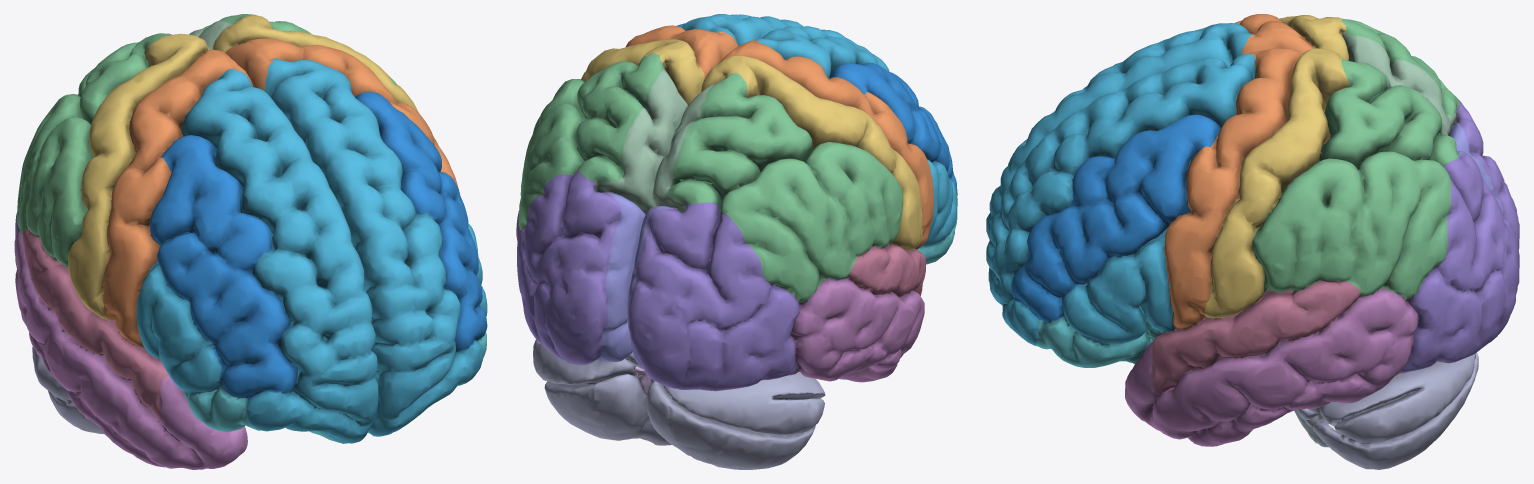
File: cortex-brain-v6-8542869de3.glb
3 renders of one model, left to right at view 1: azimuth 30°, elevation 25°; view 2: azimuth 150°, elevation 25°; view 3: azimuth 270°, elevation 25°, orthographic. The views are drawn at different scales.
Visible parts, largest first — view 1: Cortex_frontal_R, Cortex_frontal_L, Cortex_dlpfc_R, Cortex_temporal_R, Cortex_motor_R, Cortex_parietal_R, Cortex_somatosensory_R, Cortex_dlpfc_L, Cortex_auditory_R, Cortex_motor_L, Cortex_somatosensory_L, Cortex_ofc_R (+3 smaller); view 2: Cortex_parietal_R, Cortex_occipital_R, Cerebellar_hemispheres, Cortex_occipital_L, Cortex_parietal_L, Cortex_temporal_R, Cortex_somatosensory_R, Cortex_motor_R, Cortex_precuneus_L, Cortex_frontal_R, Cortex_dlpfc_R, Cortex_visual_L (+7 smaller); view 3: Cortex_parietal_L, Cortex_frontal_L, Cortex_temporal_L, Cortex_dlpfc_L, Cortex_occipital_L, Cortex_motor_L, Cortex_somatosensory_L, Cerebellar_hemispheres, Cortex_auditory_L, Cortex_frontal_R, Cortex_ofc_L, Cortex_precuneus_R (+5 smaller).
Boxes of the visible parts, x1,y1,x2,y2 form: Cortex_frontal_R: [136, 69, 378, 443]; Cortex_frontal_L: [264, 58, 487, 436]; Cortex_dlpfc_R: [150, 135, 297, 399]; Cortex_temporal_R: [14, 230, 247, 469]; Cortex_motor_R: [103, 49, 252, 347]; Cortex_parietal_R: [17, 33, 168, 267]; Cortex_somatosensory_R: [68, 33, 209, 320]; Cortex_dlpfc_L: [355, 91, 487, 350]; Cortex_auditory_R: [22, 229, 169, 423]; Cortex_motor_L: [225, 38, 459, 190]; Cortex_somatosensory_L: [212, 15, 437, 143]; Cortex_ofc_R: [183, 384, 339, 442]; Cortex_parietal_R: [668, 73, 903, 302]; Cortex_occipital_R: [628, 202, 799, 391]; Cerebellar_hemispheres: [533, 339, 825, 469]; Cortex_occipital_L: [517, 170, 621, 365]; Cortex_parietal_L: [518, 53, 662, 230]; Cortex_temporal_R: [789, 278, 924, 382]; Cortex_somatosensory_R: [701, 55, 922, 250]; Cortex_motor_R: [721, 40, 933, 249]; Cortex_precuneus_L: [594, 66, 687, 213]; Cortex_frontal_R: [755, 26, 957, 246]; Cortex_dlpfc_R: [829, 62, 957, 195]; Cortex_visual_L: [596, 192, 645, 362]; Cortex_parietal_L: [1252, 59, 1459, 300]; Cortex_frontal_L: [986, 53, 1255, 345]; Cortex_temporal_L: [1125, 288, 1418, 446]; Cortex_dlpfc_L: [1011, 114, 1220, 322]; Cortex_occipital_L: [1401, 153, 1519, 373]; Cortex_motor_L: [1164, 48, 1302, 329]; Cortex_somatosensory_L: [1204, 48, 1349, 318]; Cerebellar_hemispheres: [1298, 352, 1478, 469]; Cortex_auditory_L: [1151, 280, 1360, 393]; Cortex_frontal_R: [986, 23, 1254, 239]; Cortex_ofc_L: [1035, 316, 1158, 367]; Cortex_precuneus_R: [1342, 33, 1457, 134].
Size of the model in its own units: 5.11 by 5.38 by 6.4.
